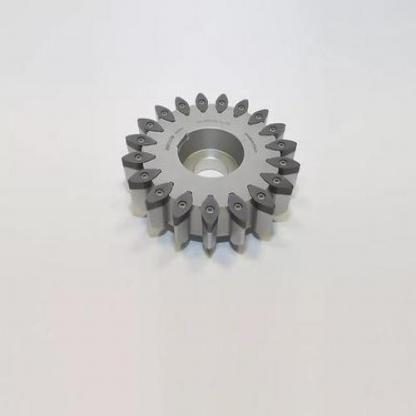FOD: (119, 91, 304, 258)
